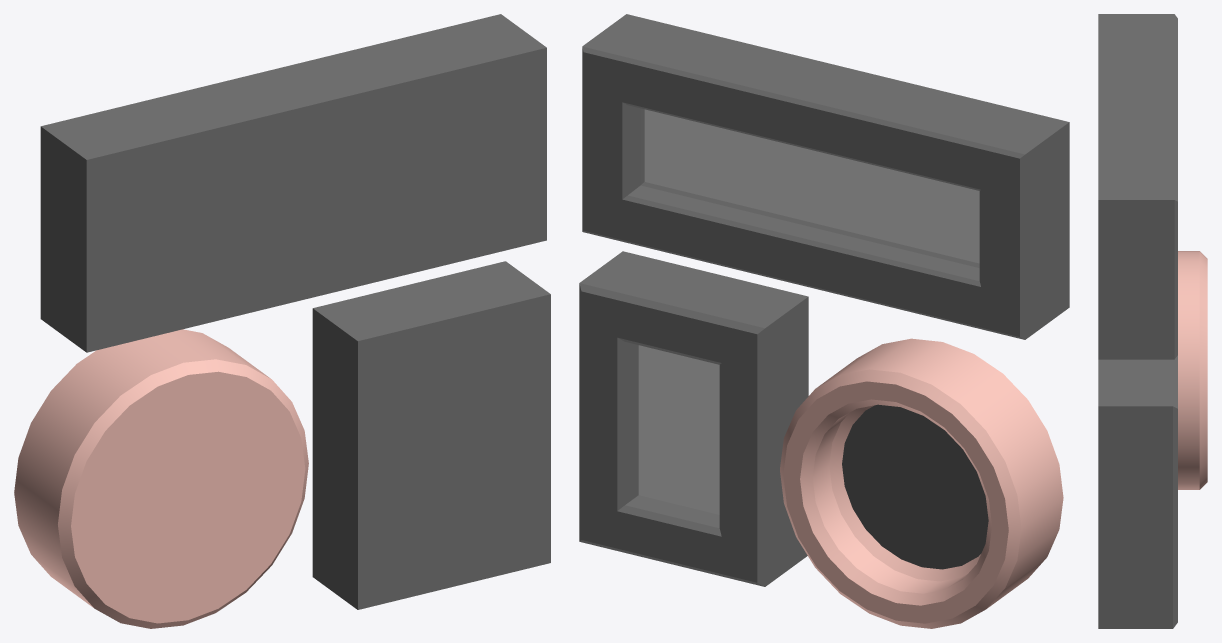
The model's file is Wall_Deco_03.fbx.
The picture shows the model from 3 angles, left to right: view 1: azimuth 30°, elevation 25°; view 2: azimuth 150°, elevation 25°; view 3: azimuth 270°, elevation 25°; orthographic projection. The views are drawn at different scales.
Visible parts, largest first — view 1: Cylinder.045; view 2: Cylinder.045; view 3: Cylinder.045.
Boxes of the visible parts, x1,y1,x2,y2 form: Cylinder.045: (14, 14, 550, 628); Cylinder.045: (579, 14, 1069, 628); Cylinder.045: (1098, 14, 1207, 628).
Size of the model in its own units: 71.94 by 74.64 by 17.31.
